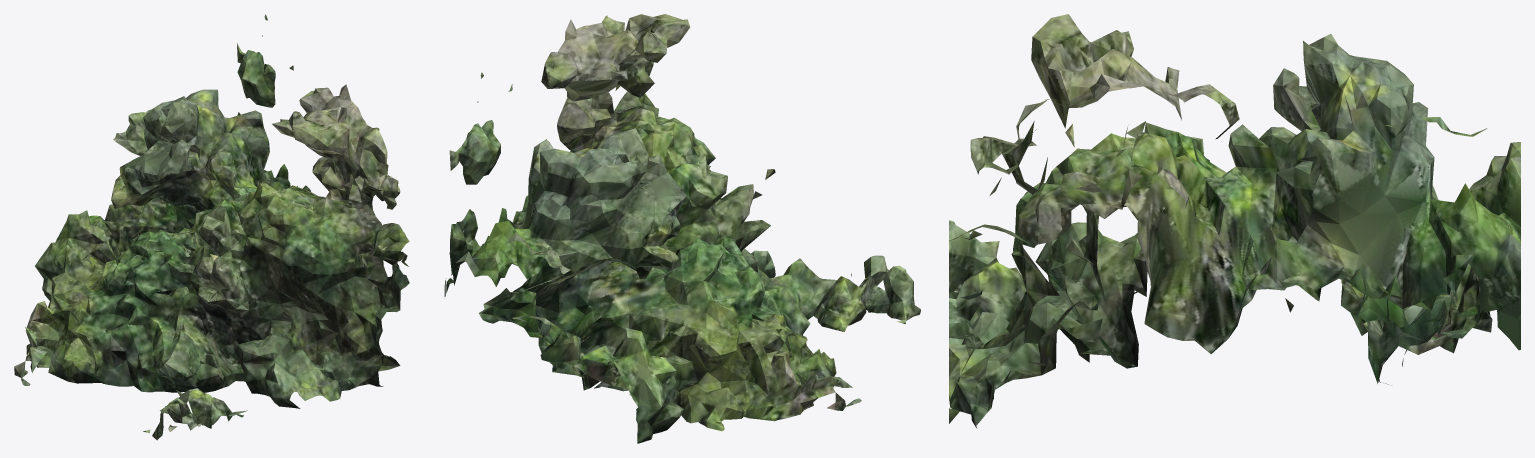
The picture shows the model from 3 angles, left to right: view 1: azimuth 30°, elevation 25°; view 2: azimuth 150°, elevation 25°; view 3: azimuth 270°, elevation 25°; orthographic projection. The views are drawn at different scales.
Bounding box in the file's own units: 24.04 × 20.66 × 26.11.
Materials: 6 (6 with a texture image).
